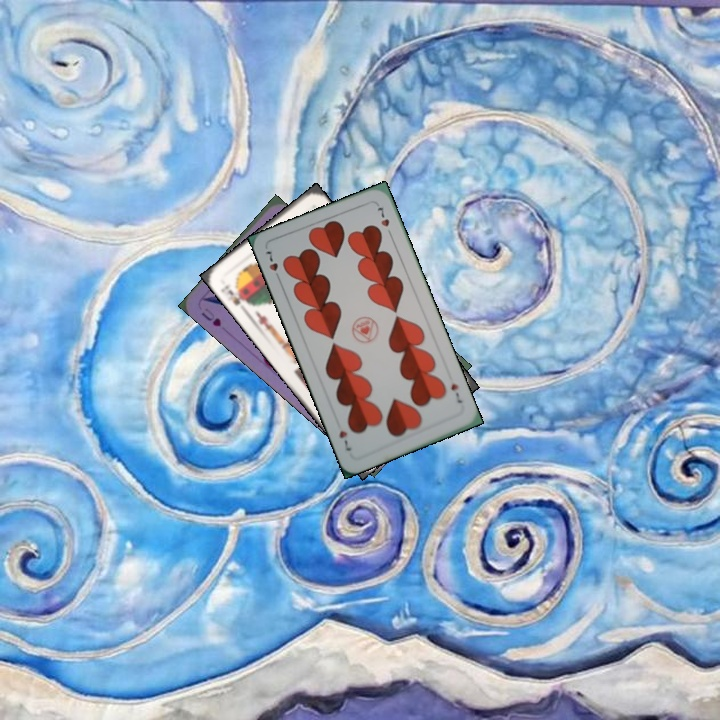H7: (261, 247, 284, 284), (447, 379, 465, 406)
HU: (197, 304, 224, 329)
SK: (216, 281, 252, 308)
